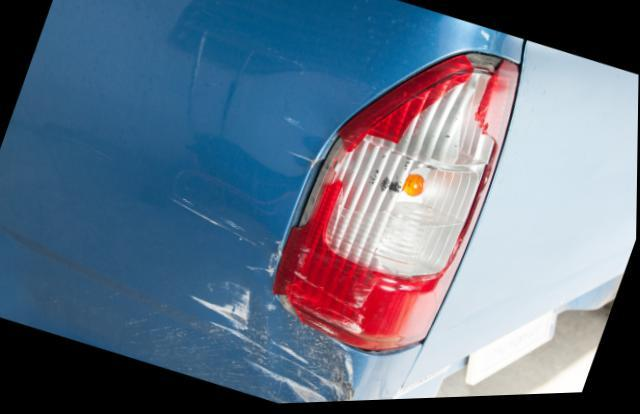lamp broken: (271, 53, 520, 353)
scratch: (122, 191, 359, 406)
